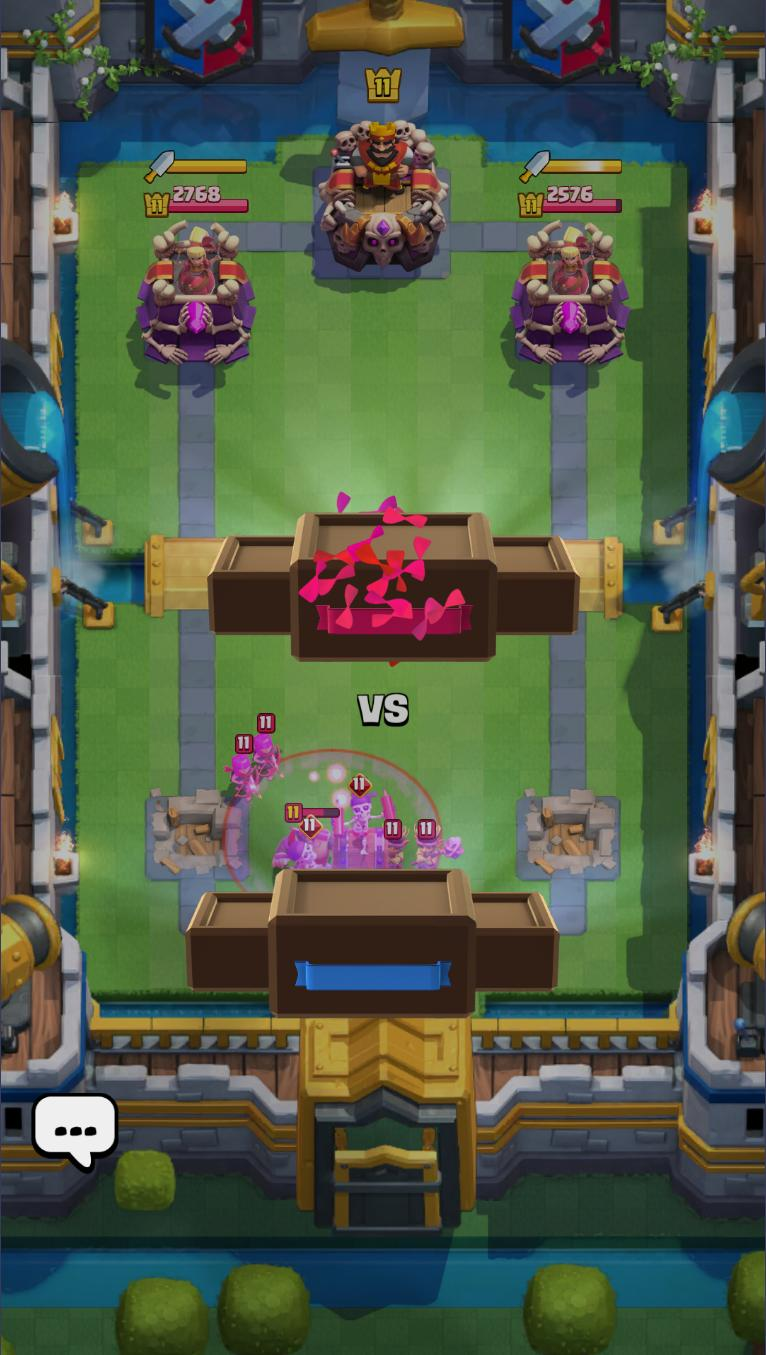Archer: (241, 711, 286, 787), (219, 734, 261, 801)
BushGoblins: (411, 817, 466, 871), (381, 814, 411, 874)
DaggerDuchess: (170, 226, 224, 296), (550, 227, 599, 296)
Daggers: (140, 149, 249, 186), (519, 149, 626, 183)
EnemyTower: (509, 217, 633, 370), (134, 220, 260, 369)
EvoWallBreackers: (333, 779, 394, 877), (270, 819, 343, 877)
KingTower: (314, 100, 456, 270)
Knight: (269, 803, 340, 877)
MyPrincessTowerBrocken: (140, 790, 249, 887), (516, 796, 621, 886)
TowerPrincessHP: (519, 181, 630, 221), (141, 181, 251, 219)
